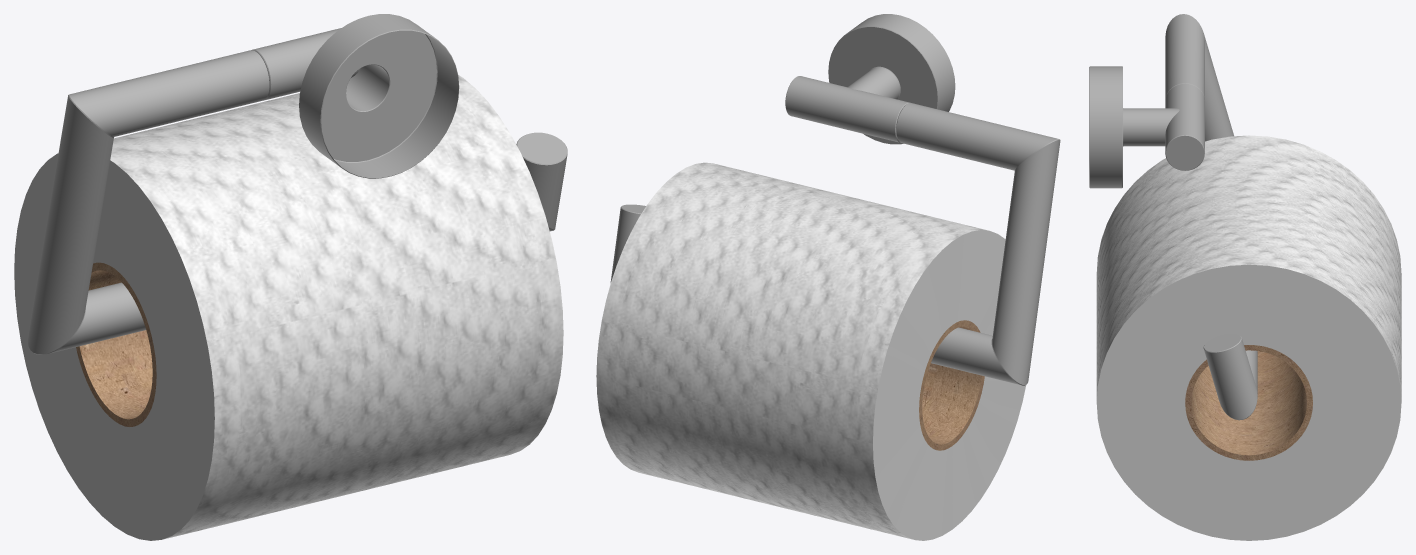
File: ToiletPaperHolder.fbx
3 renders of one model, left to right at view 1: azimuth 30°, elevation 25°; view 2: azimuth 150°, elevation 25°; view 3: azimuth 270°, elevation 25°, orthographic. The views are drawn at different scales.
Visible parts, largest first — view 1: toilet_paper.001, Toilet paper holder; view 2: toilet_paper.001, Toilet paper holder; view 3: toilet_paper.001, Toilet paper holder.
Part boxes in pixels (x1=…): toilet_paper.001: x1=14, y1=75, x2=563, y2=540; Toilet paper holder: x1=27, y1=14, x2=567, y2=354; toilet_paper.001: x1=596, y1=162, x2=1026, y2=540; Toilet paper holder: x1=610, y1=14, x2=1060, y2=385; toilet_paper.001: x1=1096, y1=135, x2=1401, y2=540; Toilet paper holder: x1=1089, y1=14, x2=1257, y2=420.
Size of the model in its own units: 14.06 by 13.69 by 9.61.
4 materials, 2 textured.
